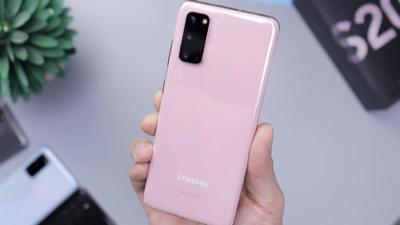cell-phone: (138, 0, 281, 225)
